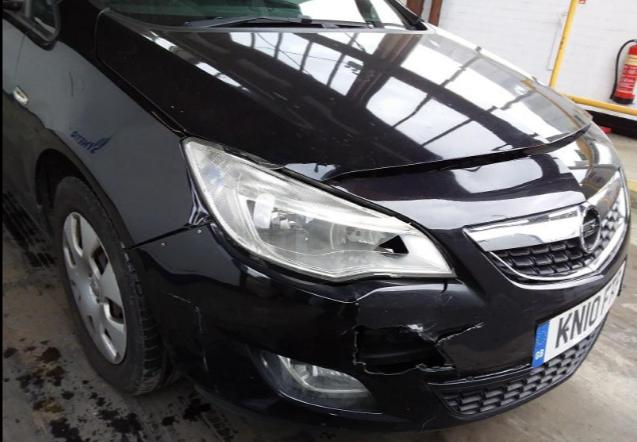Broken part: (125, 218, 629, 433), (186, 138, 457, 280), (315, 116, 591, 188)
Dent: (3, 79, 70, 231), (156, 290, 211, 390), (241, 380, 285, 419), (22, 100, 53, 145), (187, 191, 209, 225)
Scratch: (179, 140, 225, 241), (151, 110, 183, 134), (68, 70, 74, 98)
